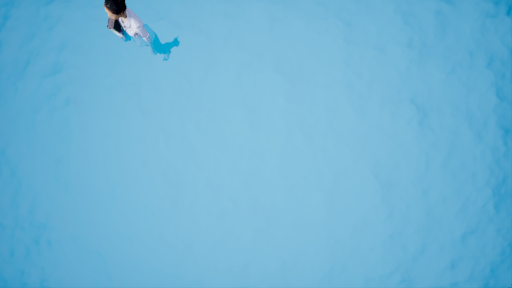person: (96, 1, 168, 58)
